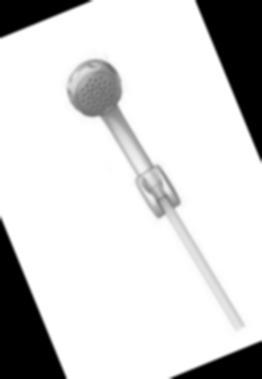Ducha: (49, 27, 262, 355)
